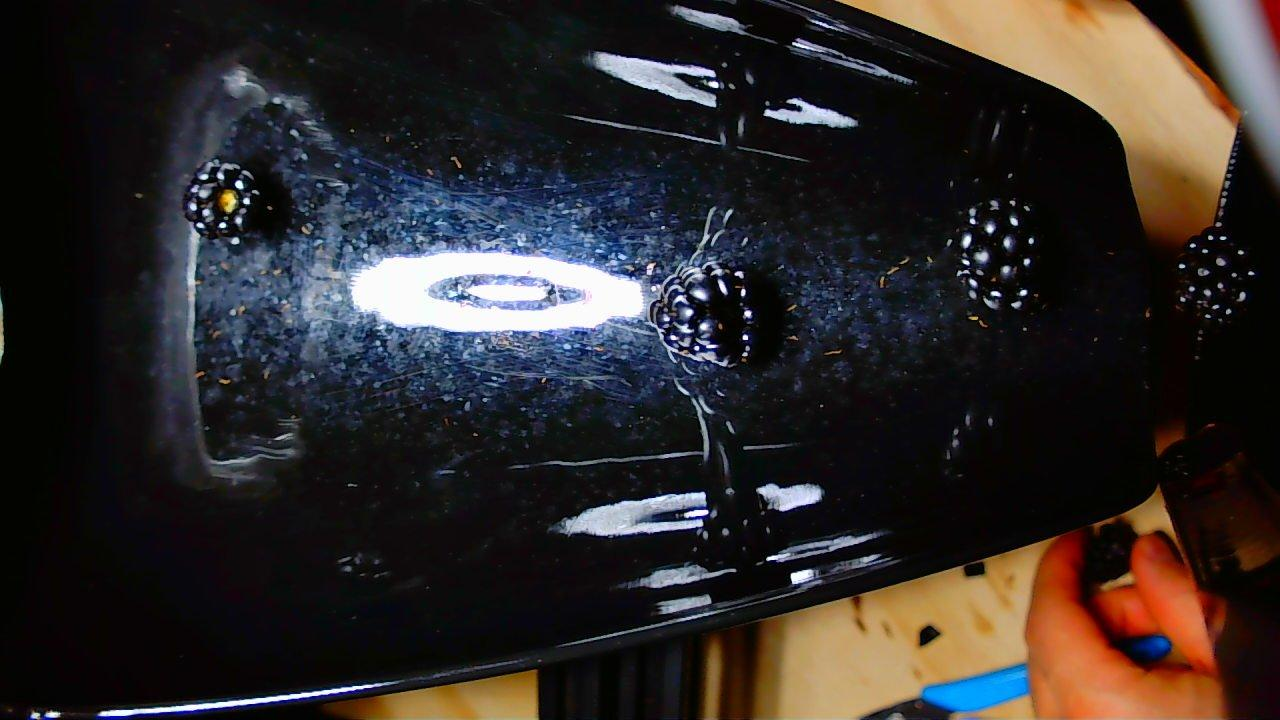berry: (649, 262, 760, 366), (948, 197, 1043, 309), (1178, 227, 1256, 325), (184, 158, 258, 239)
